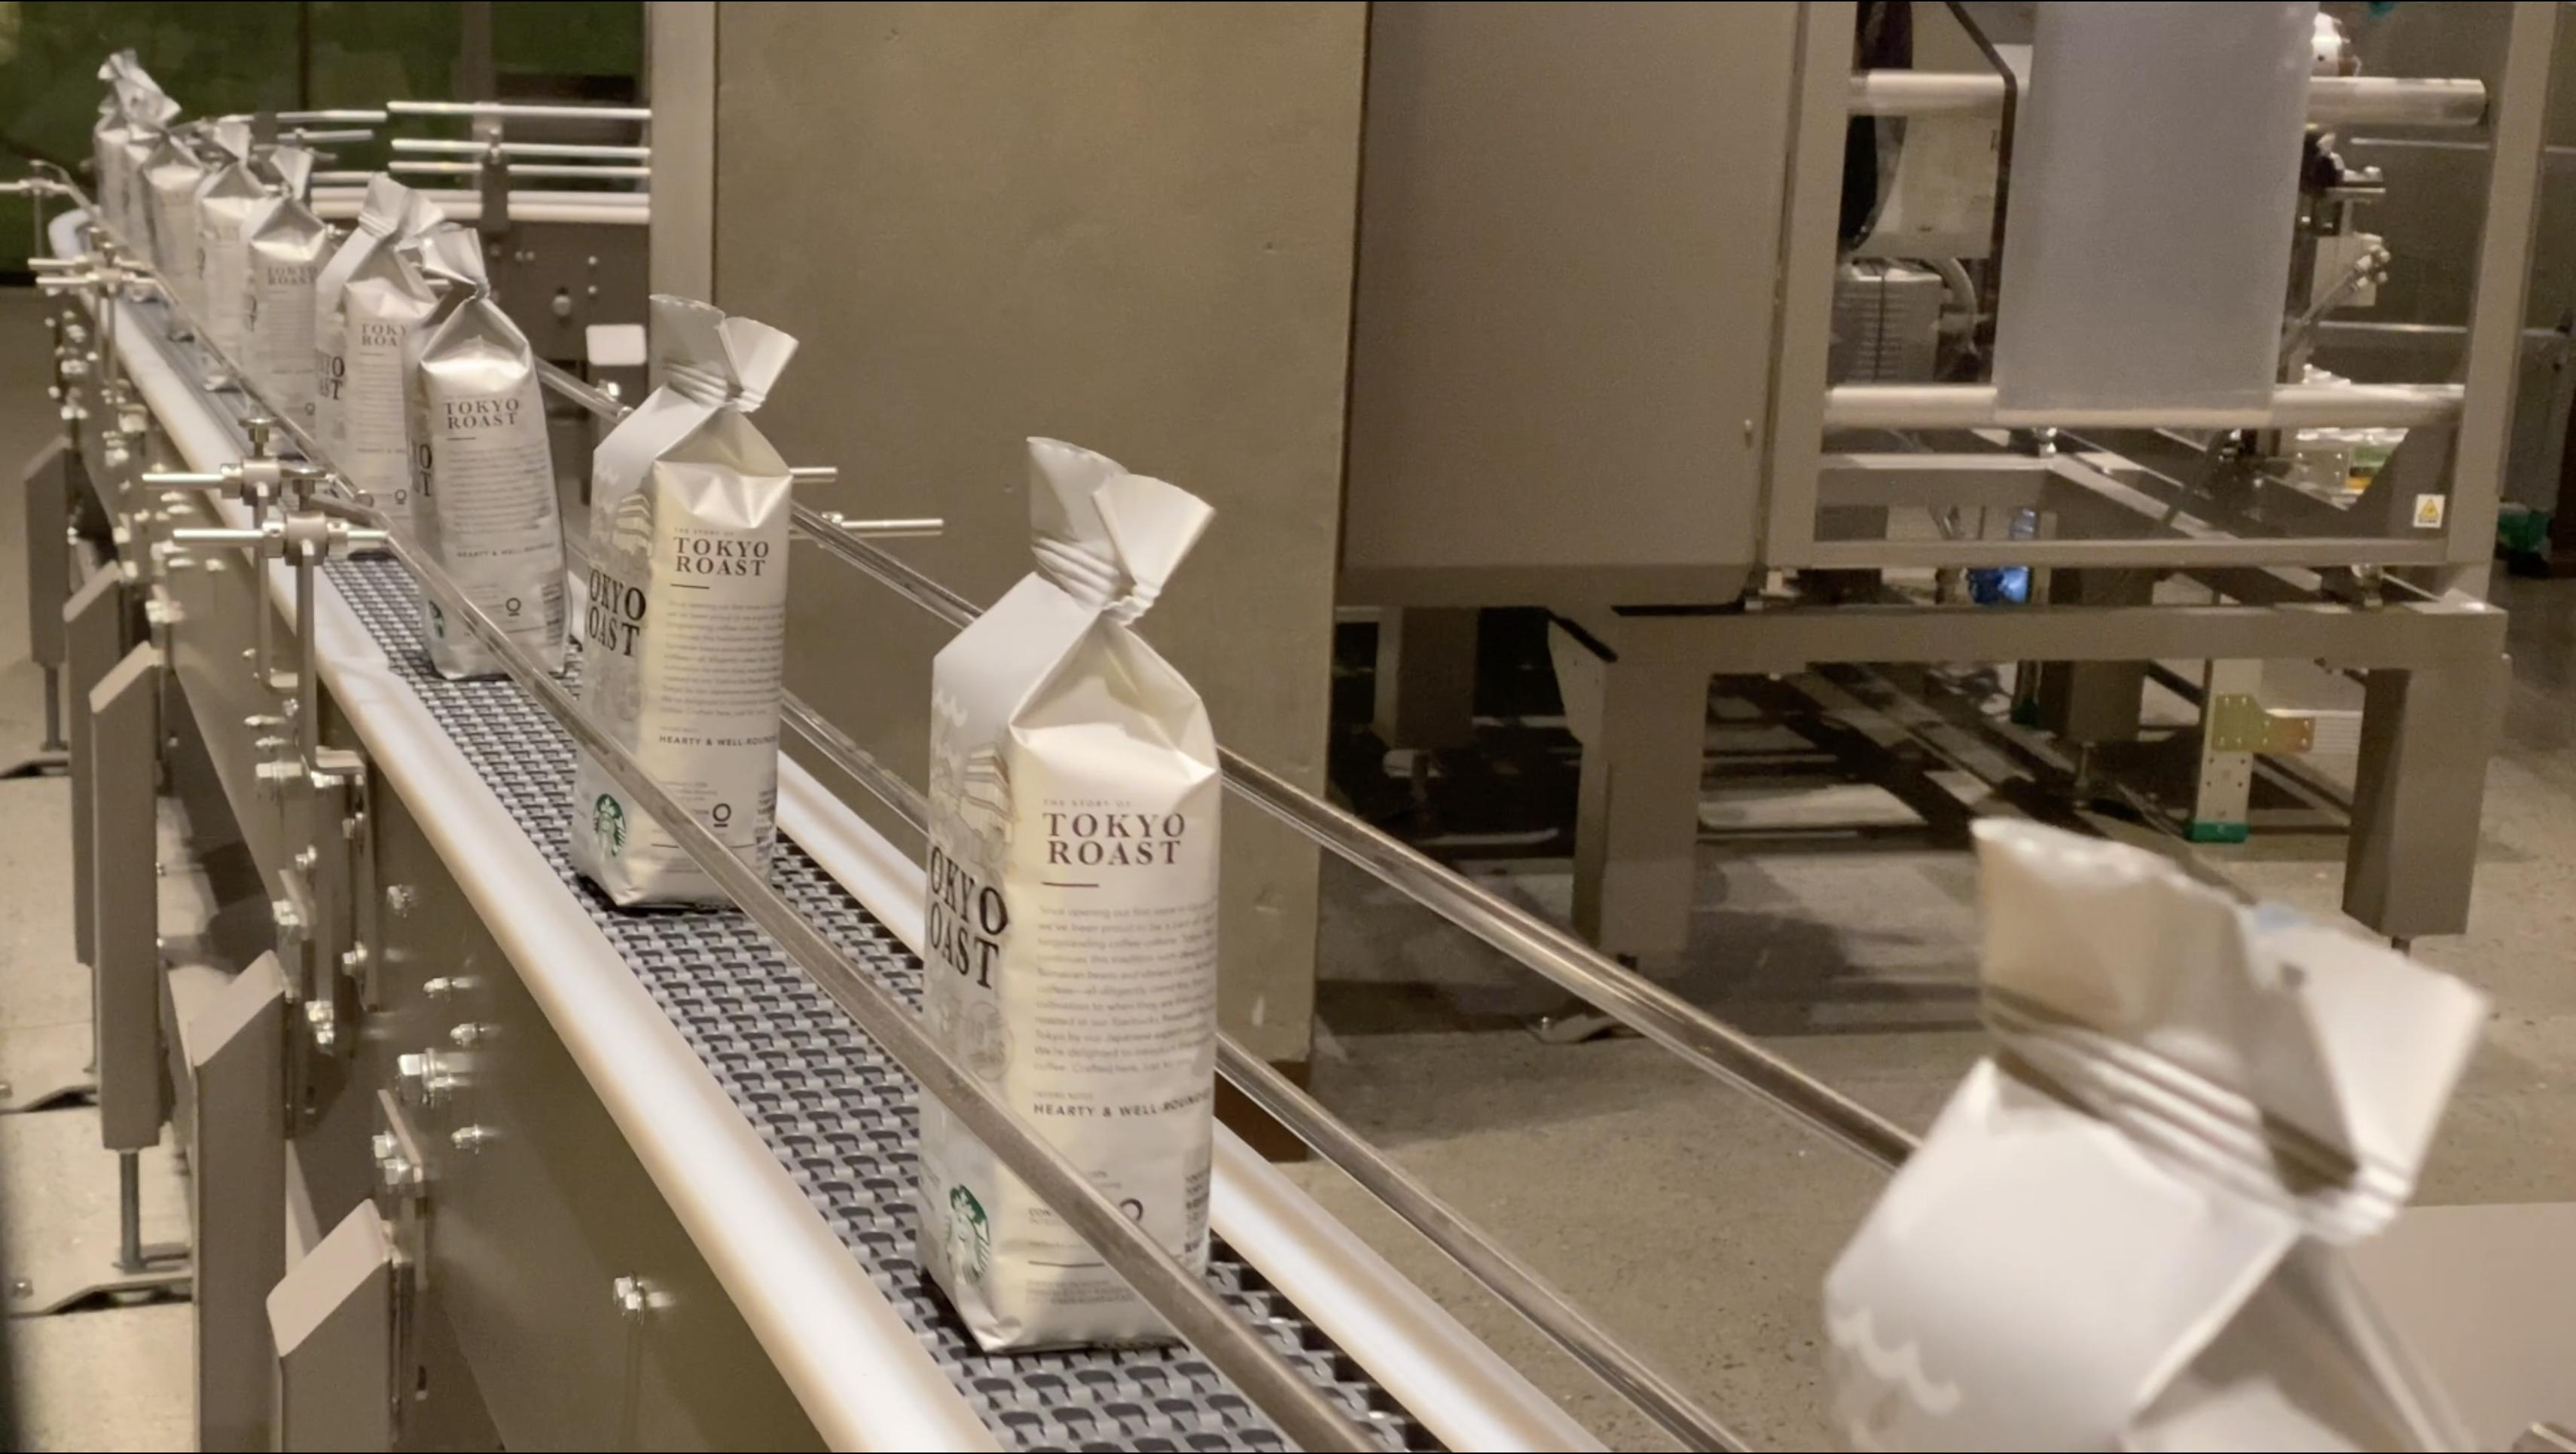bag: (1828, 823, 2486, 1454), (939, 478, 1212, 1321), (612, 340, 759, 879), (416, 302, 557, 663), (331, 212, 407, 499), (248, 187, 320, 435), (203, 168, 249, 379), (150, 136, 205, 310)
